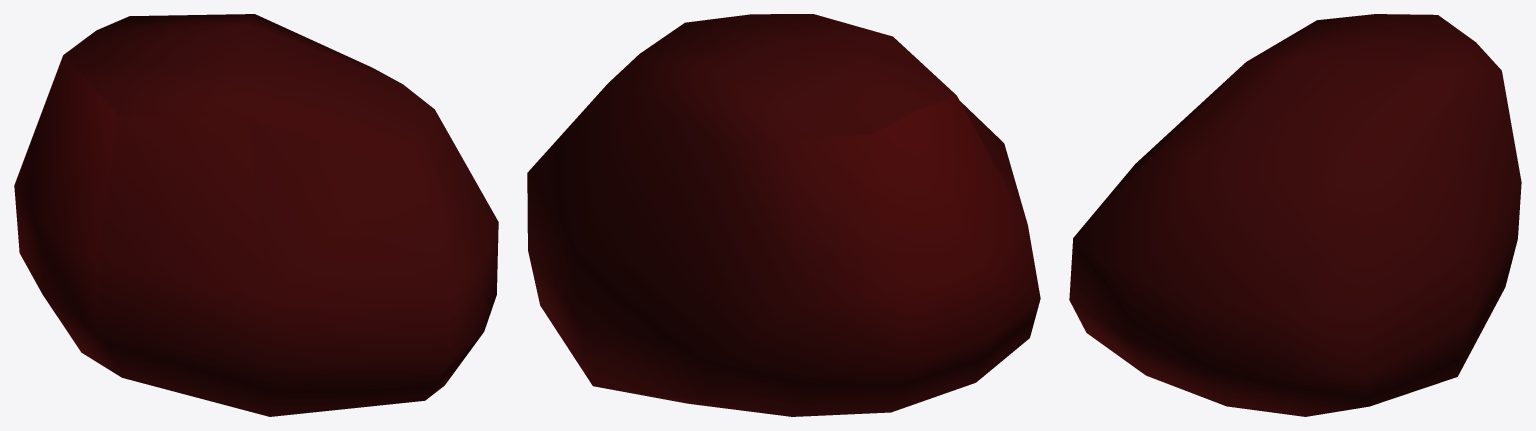
File: geology-pebbles-smalldirtchunk_v3.fbx
The picture shows the model from 3 angles, left to right: view 1: azimuth 30°, elevation 25°; view 2: azimuth 150°, elevation 25°; view 3: azimuth 270°, elevation 25°; orthographic projection. The views are drawn at different scales.
Parts seen in each view (by area): view 1: SmallDirtChunk_v3; view 2: SmallDirtChunk_v3; view 3: SmallDirtChunk_v3.
Boxes of the visible parts, x1=… form: SmallDirtChunk_v3: x1=14, y1=14, x2=498, y2=416; SmallDirtChunk_v3: x1=527, y1=14, x2=1040, y2=416; SmallDirtChunk_v3: x1=1069, y1=14, x2=1521, y2=416.
Size of the model in its own units: 2.77 by 2.1 by 2.85.
